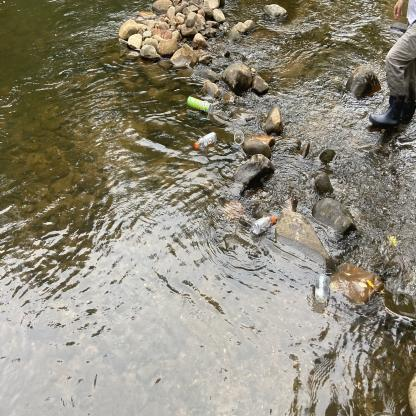trash: (312, 272, 332, 306), (250, 214, 278, 238), (184, 94, 212, 115), (194, 130, 218, 154), (232, 129, 246, 147)
